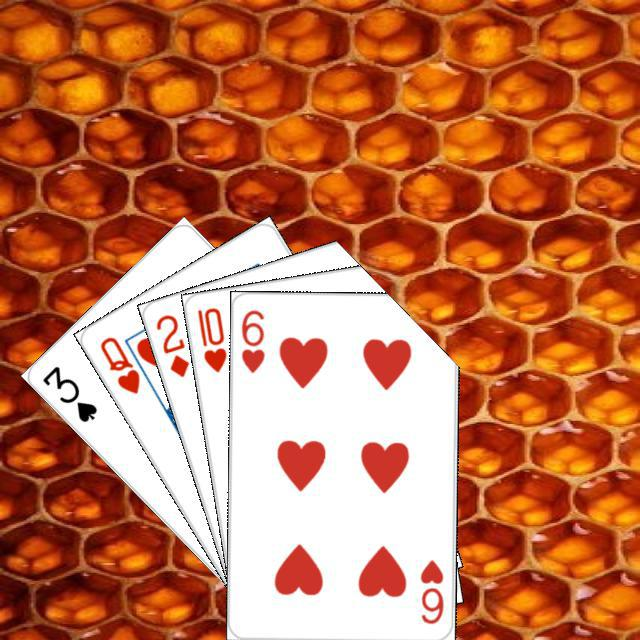10h: (192, 302, 229, 374)
2d: (151, 309, 191, 380)
3s: (37, 361, 99, 424)
6h: (415, 555, 445, 626), (236, 305, 266, 375)
Qh: (95, 331, 142, 396)
